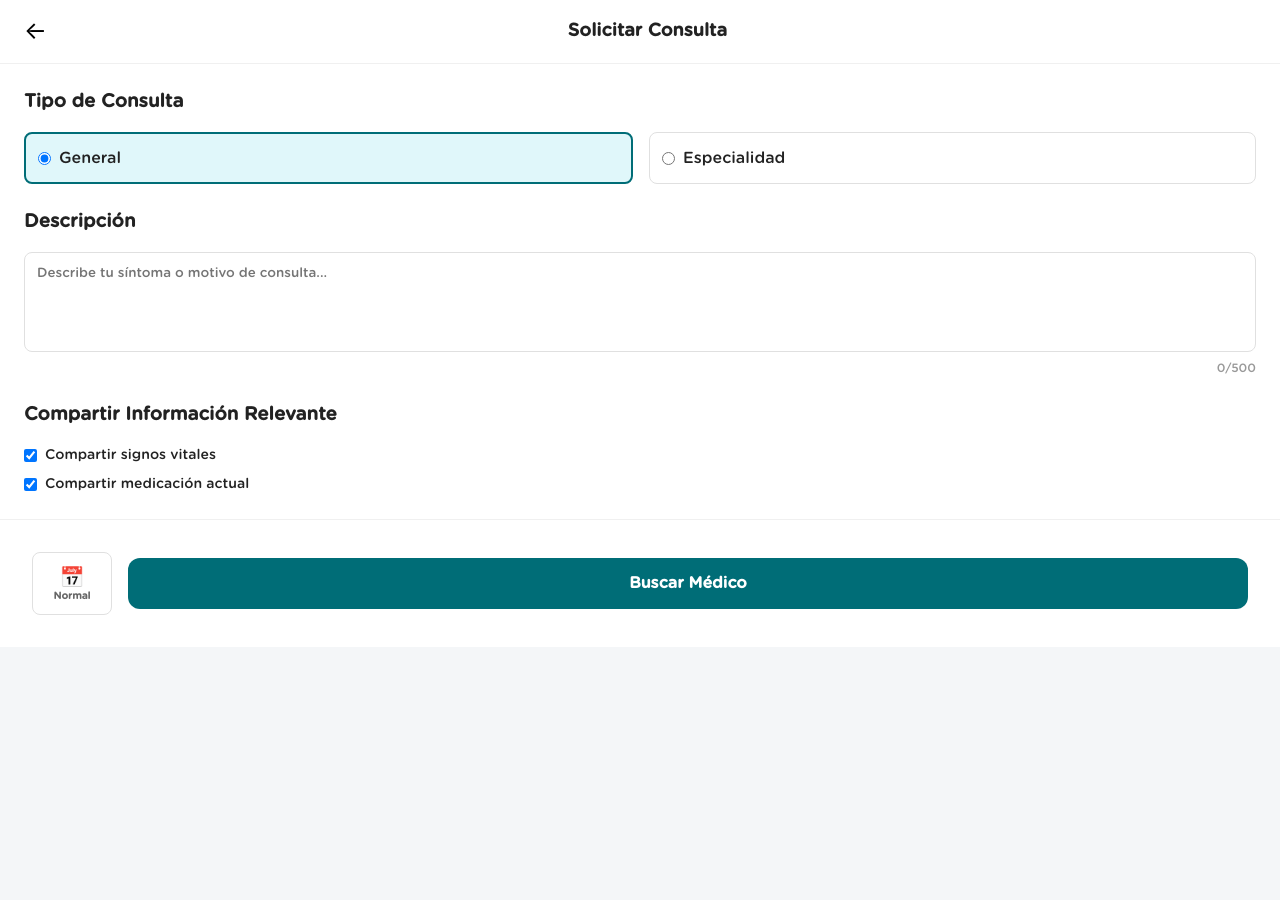
RequestConsult Component › toggles urgency
What coordinates should you click on to do the following:
click the button "📅 Normal"
I would click on:
 (72, 584)
Its box is [32, 552, 112, 615].
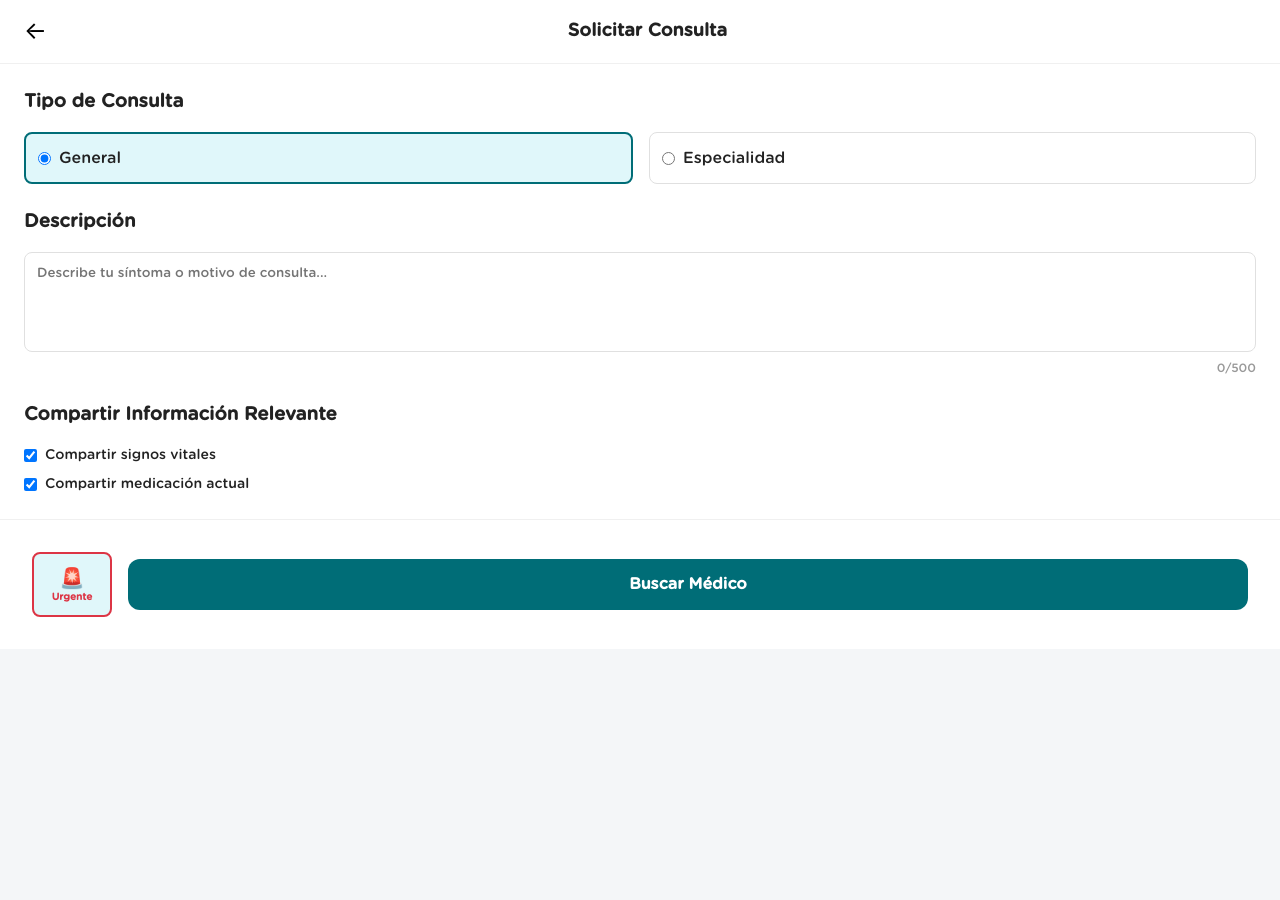
Expected: the text "Urgente" is shown, [52, 591, 92, 603]
What coordinates should you click on to do the following:
click the button "Normal"
I would click on:
 (72, 585)
Its box is [32, 552, 112, 617].
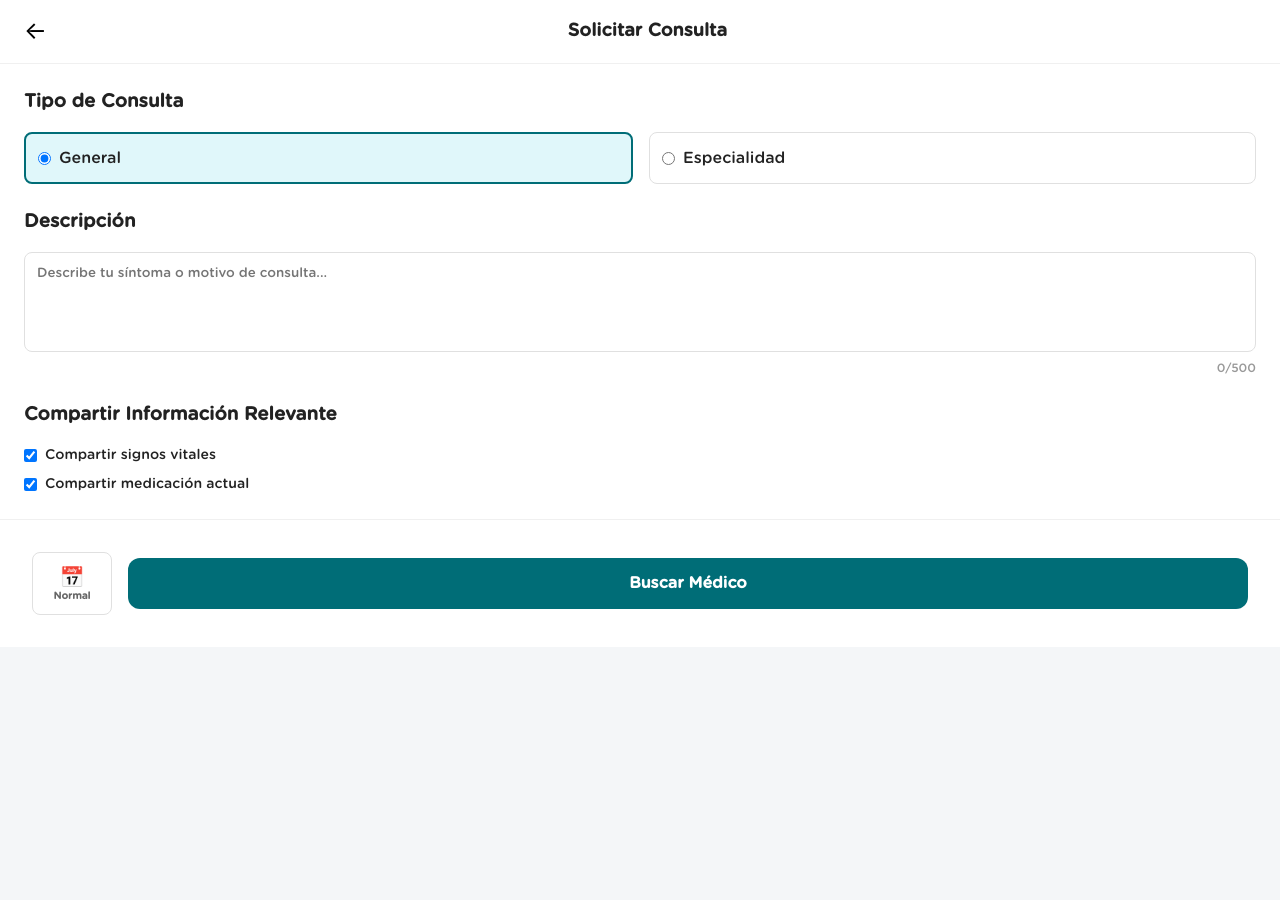
Expected: the text "Normal" is shown, [54, 590, 90, 602]
